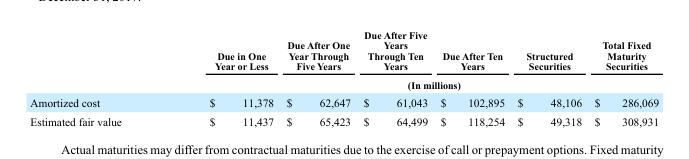table: (29, 29, 658, 127)
table column: (29, 29, 164, 127), (164, 29, 279, 127), (279, 29, 356, 127), (356, 29, 433, 127), (433, 29, 510, 127), (510, 29, 587, 127), (587, 29, 658, 127)
table column header: (29, 29, 658, 92)
table row: (29, 29, 658, 74), (29, 92, 658, 111), (29, 74, 658, 92), (29, 111, 658, 127)
table spanning cell: (164, 74, 658, 92)
